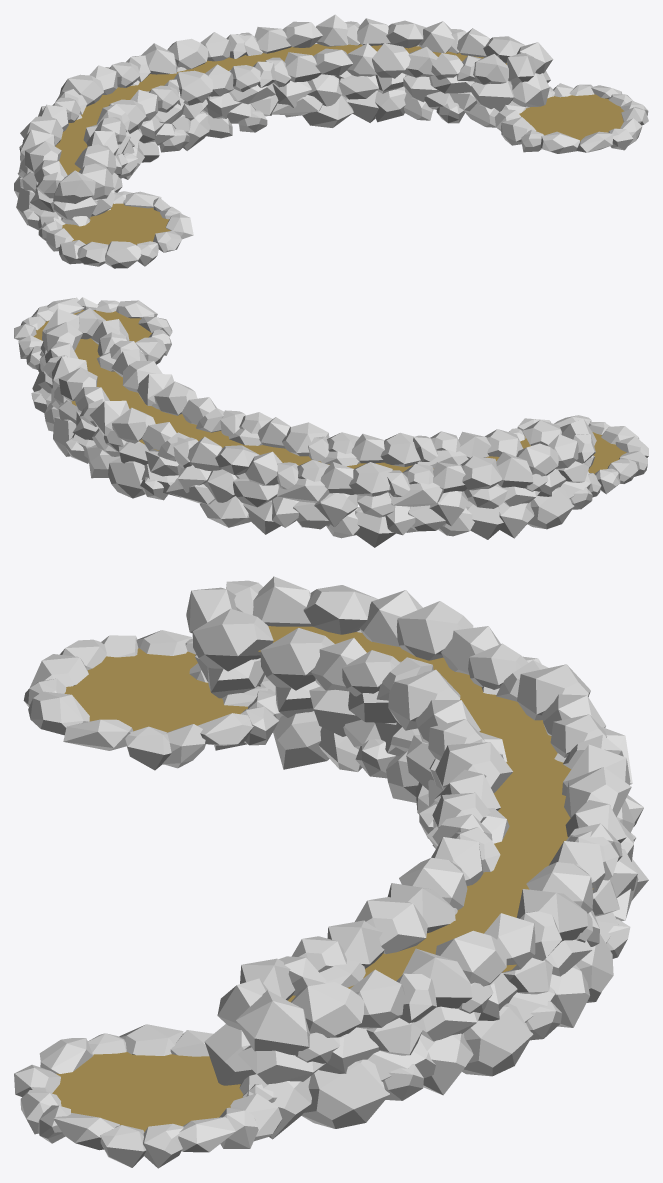
3 renders of one model, top to bottom at view 1: azimuth 30°, elevation 25°; view 2: azimuth 150°, elevation 25°; view 3: azimuth 270°, elevation 25°, orthographic. The views are drawn at different scales.
Parts seen in each view (by area): view 1: SM_B_11; view 2: SM_B_11; view 3: SM_B_11.
Boxes of the visible parts, box(x1,y1,x2,y2) form: SM_B_11: box(14, 14, 648, 268); SM_B_11: box(14, 297, 648, 547); SM_B_11: box(14, 576, 648, 1168).
Bounding box in the file's own units: 837 × 110 × 440.
